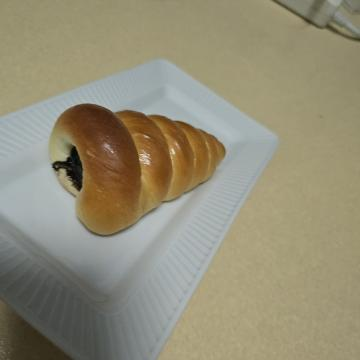cream horn: (90, 125, 248, 323)
